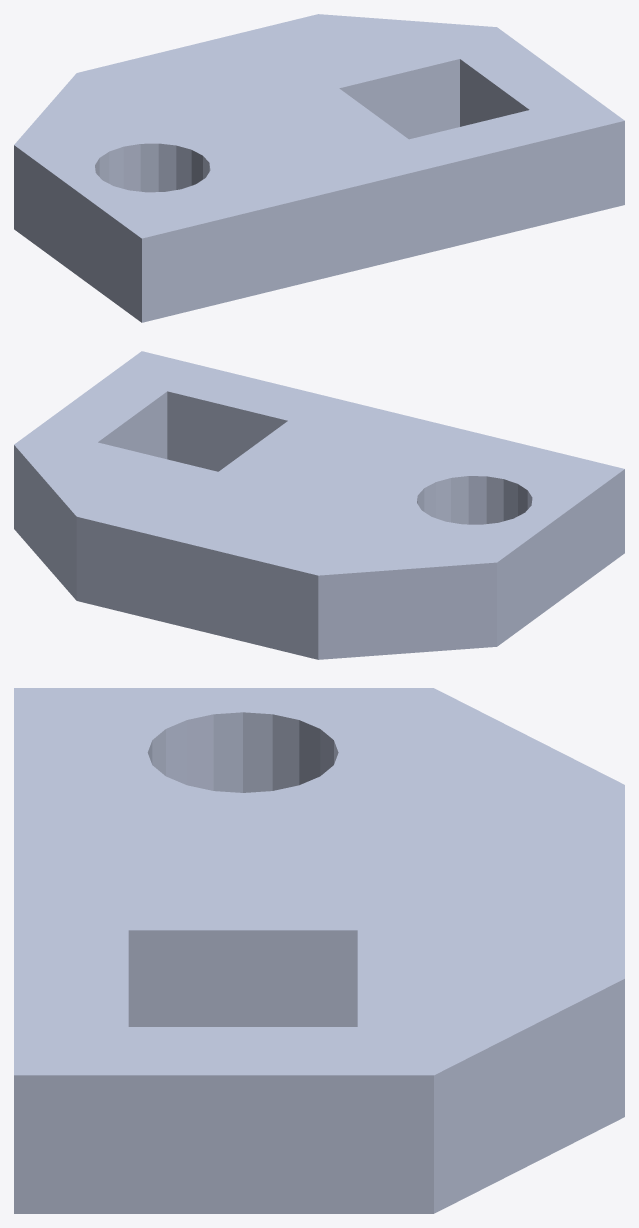
Rendered from example.gltf.
The picture shows the model from 3 angles, top to bottom: view 1: azimuth 30°, elevation 25°; view 2: azimuth 150°, elevation 25°; view 3: azimuth 270°, elevation 25°; orthographic projection. The views are drawn at different scales.
Visible parts, largest first — view 1: extrusion; view 2: extrusion; view 3: extrusion.
Part boxes in pixels (box(x1,y1,x2,y2)): extrusion: box(14, 14, 624, 322); extrusion: box(14, 351, 624, 659); extrusion: box(14, 688, 624, 1213).
Size of the model in its own units: 2.4 by 0.4 by 1.6.
